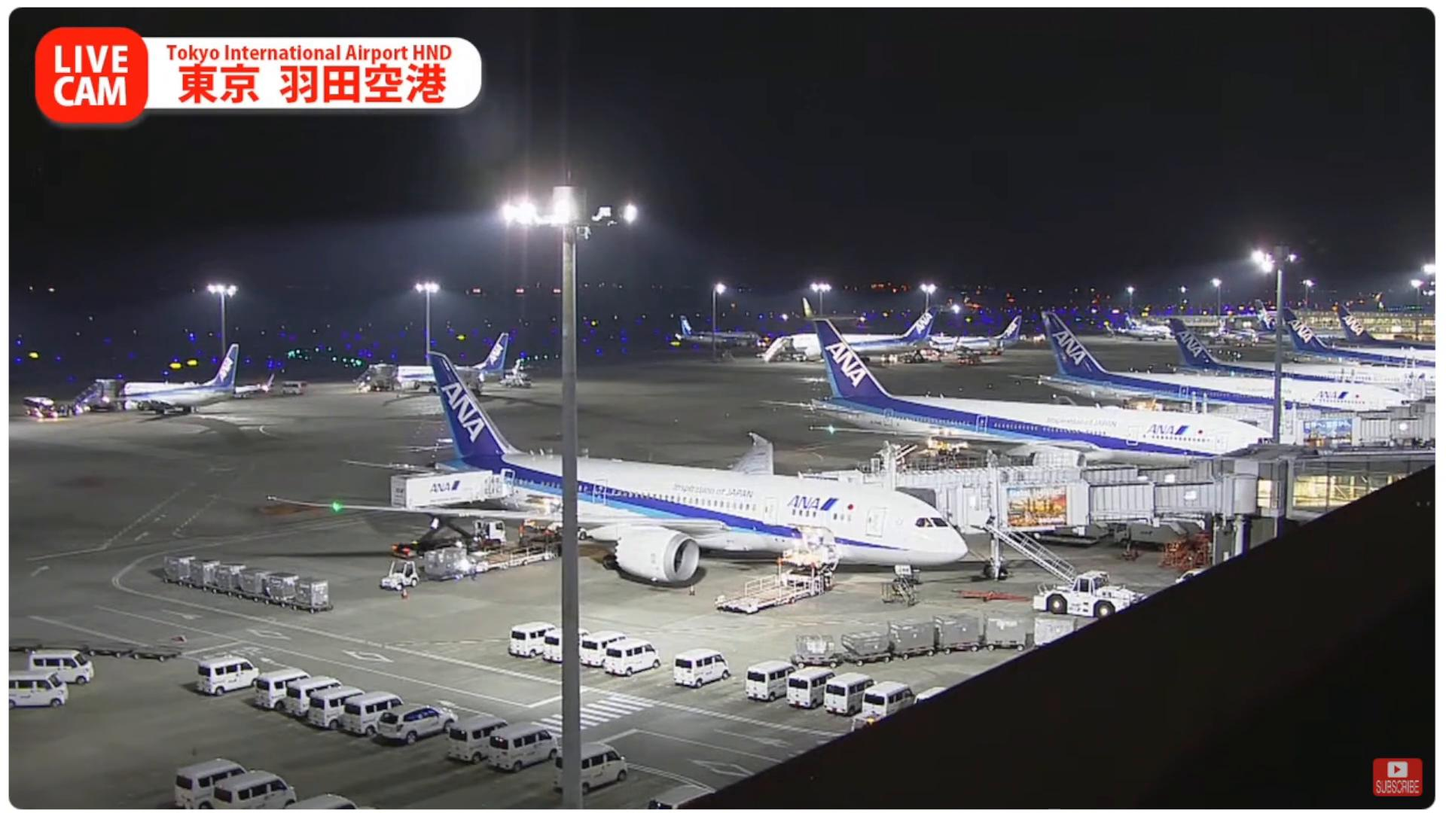APS: (1031, 569, 1148, 617)
Aerobridge: (895, 475, 1256, 534), (800, 456, 1224, 487)
Airplane: (269, 351, 970, 589)
Catering: (389, 469, 504, 556)
Dolly: (790, 608, 1075, 667), (164, 551, 329, 614), (425, 540, 560, 580)
JCPL: (712, 560, 837, 614)
Tractor: (380, 560, 421, 591)
Window: (1290, 455, 1437, 521)
